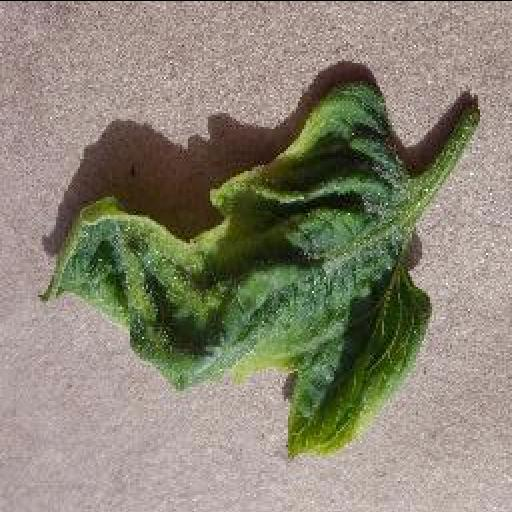disease_tomato: (36, 81, 434, 455)
